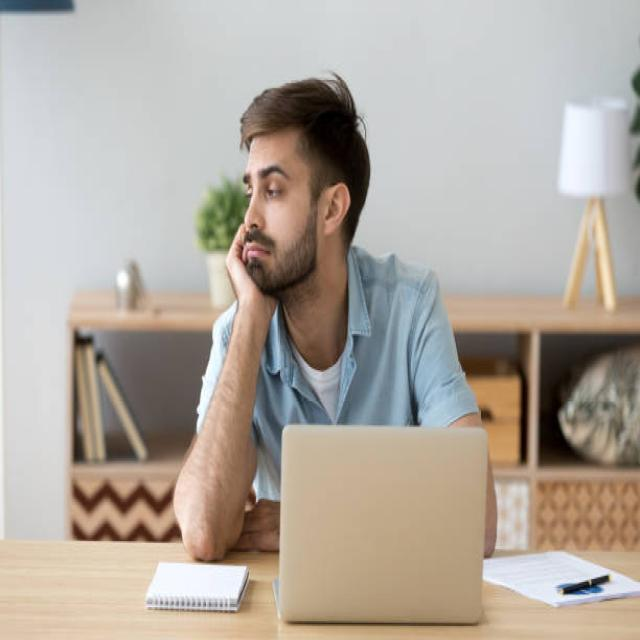Looking away: (241, 136, 318, 294)
